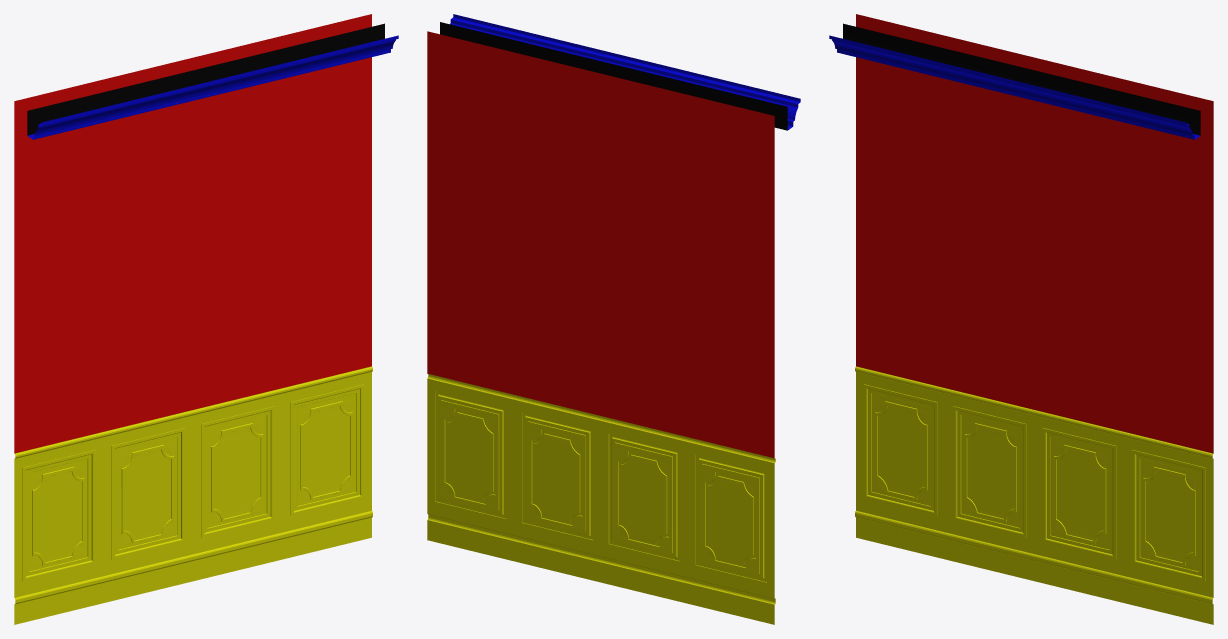
File: Room_Wall_Window_high.fbx
The picture shows the model from 3 angles, left to right: view 1: azimuth 30°, elevation 25°; view 2: azimuth 150°, elevation 25°; view 3: azimuth 330°, elevation 25°; orthographic projection. The views are drawn at different scales.
Parts seen in each view (by area): view 1: Room_Wall_Window_high; view 2: Room_Wall_Window_high; view 3: Room_Wall_Window_high.
Boxes of the visible parts, x1,y1,x2,y2 form: Room_Wall_Window_high: (14, 14, 398, 624); Room_Wall_Window_high: (427, 14, 800, 624); Room_Wall_Window_high: (829, 14, 1213, 624).
Size of the model in its own units: 22 by 30.78 by 2.92.
